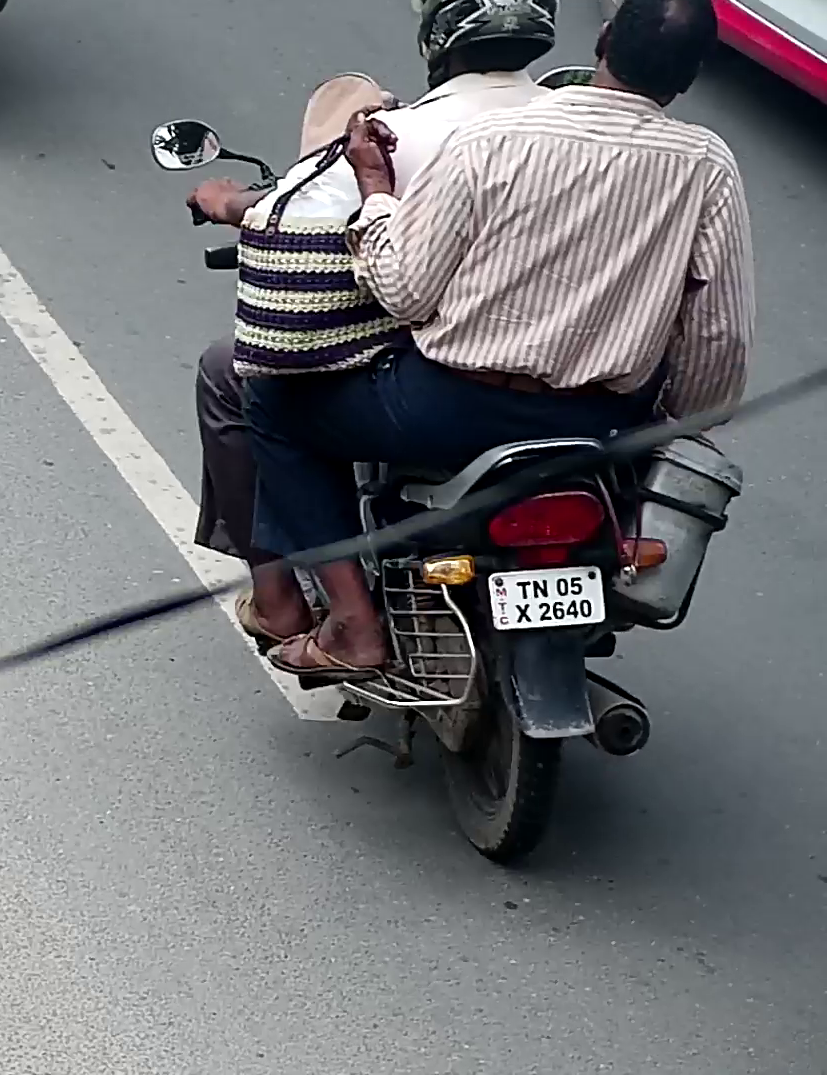0: (556, 578, 569, 596), (580, 599, 592, 618)
2: (538, 603, 552, 621)
4: (566, 600, 579, 619)
5: (570, 577, 583, 595)
6: (553, 601, 565, 620)
N: (532, 579, 549, 599)
P16: (486, 565, 606, 635)
T: (516, 581, 531, 600)
X: (515, 604, 532, 624)
